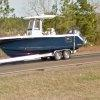Boat: (2, 10, 84, 67)
